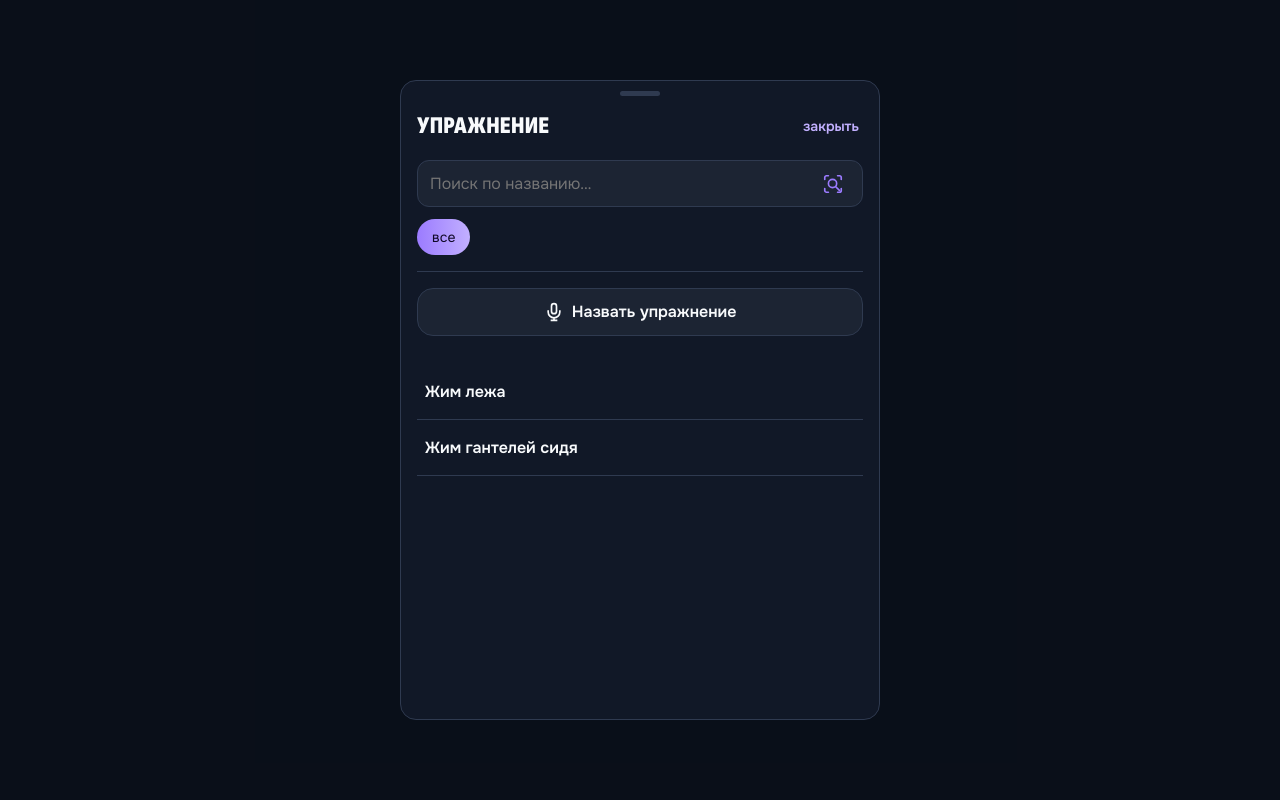
Test: voice in ExercisePicker › moves the phrase into the search field
Click the button "Назвать упражнение": (640, 312) [417, 288, 863, 336]
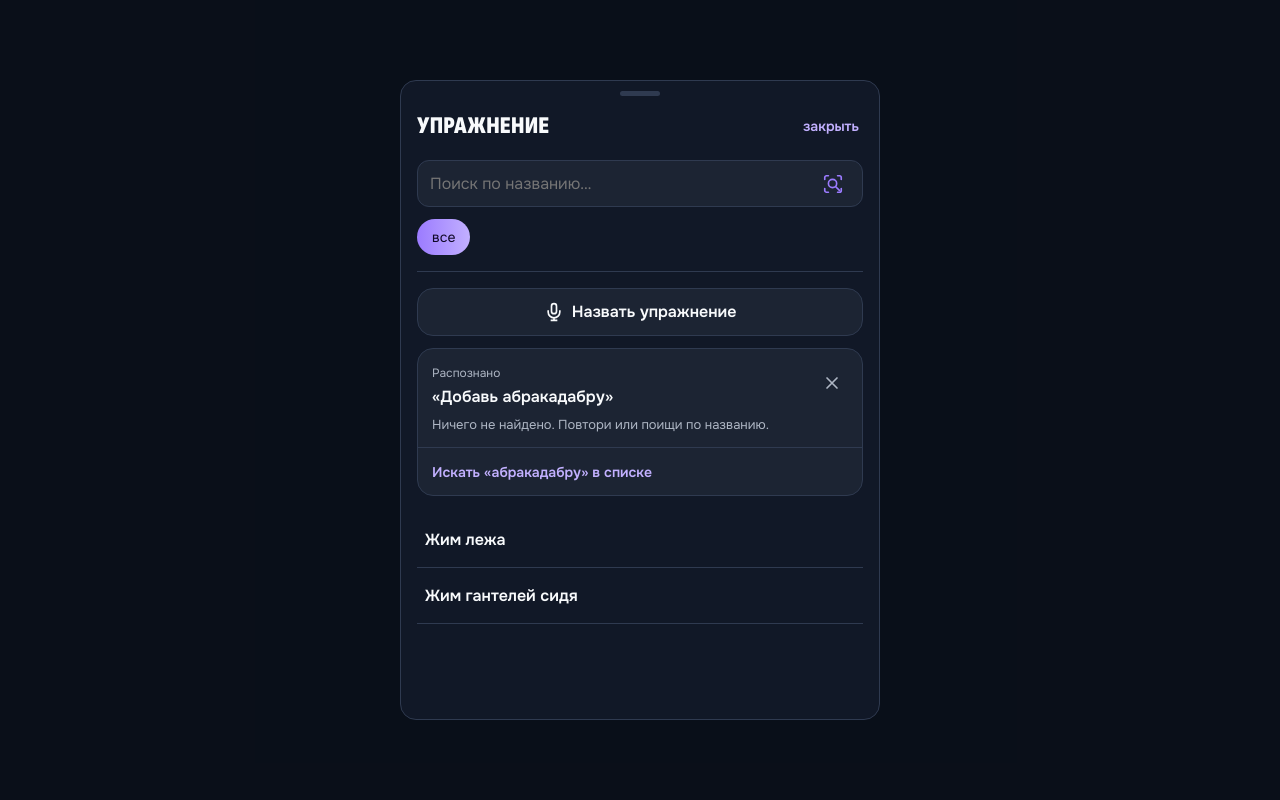
Result: the text "Ничего не найдено. Повтори или поищи по названию." is shown at [432, 416, 769, 433]
Click the button "Искать «абракадабру» в списке": (640, 471) [418, 447, 862, 495]
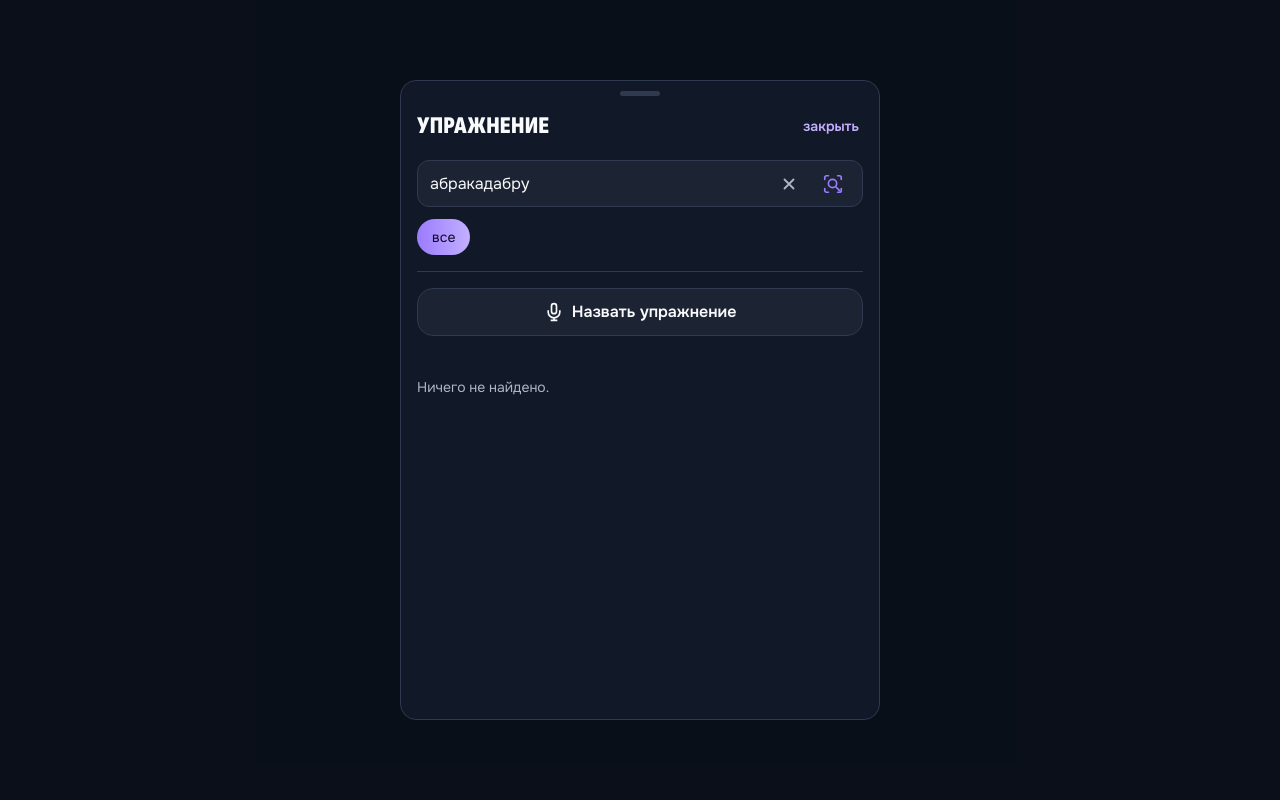
Result: the field with placeholder "Поиск по названию…" holds "абракадабру" at [417, 160, 863, 207]
Result: the text "Распознано" is gone
